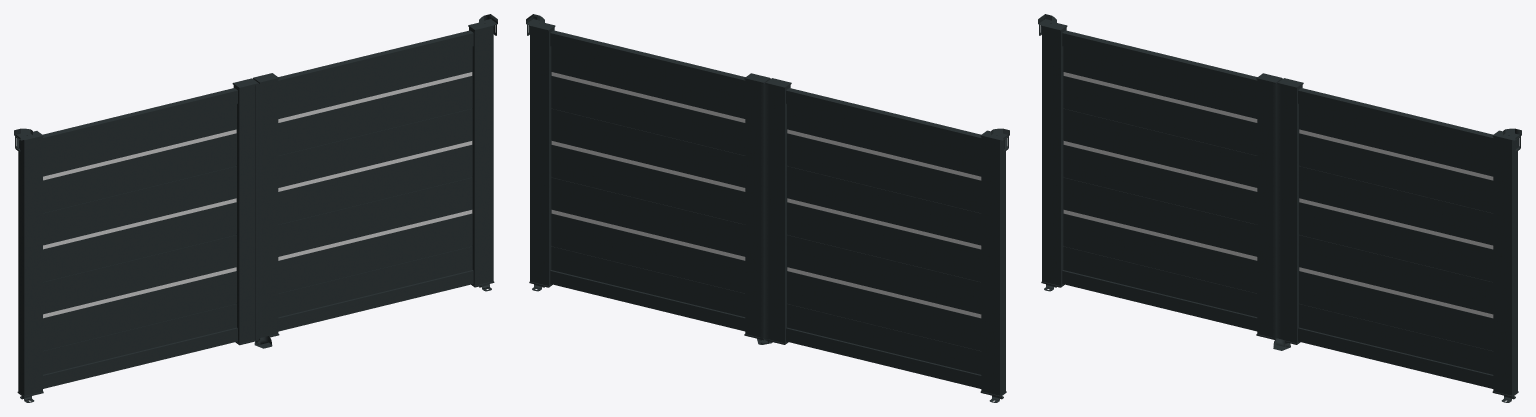
3 views of the same model, side by side, from view 1: azimuth 30°, elevation 25°; view 2: azimuth 150°, elevation 25°; view 3: azimuth 330°, elevation 25° (orthographic).
Visible parts, largest first — view 1: folha2, folha1, priximbattable_net_portail_aluminium_battant_sur_mesure_5601; view 2: folha1, folha2, priximbattable_net_portail_aluminium_battant_sur_mesure_5601; view 3: folha2, folha1, priximbattable_net_portail_aluminium_battant_sur_mesure_5601.
Boxes of the visible parts, x1=… form: folha2: x1=253, y1=22, x2=494, y2=339; folha1: x1=17, y1=78, x2=258, y2=397; priximbattable_net_portail_aluminium_battant_sur_mesure_5601: x1=14, y1=14, x2=497, y2=402; folha1: x1=760, y1=78, x2=1006, y2=397; folha2: x1=529, y1=23, x2=770, y2=340; priximbattable_net_portail_aluminium_battant_sur_mesure_5601: x1=526, y1=14, x2=1009, y2=402; folha2: x1=1272, y1=78, x2=1518, y2=397; folha1: x1=1041, y1=23, x2=1282, y2=339; priximbattable_net_portail_aluminium_battant_sur_mesure_5601: x1=1038, y1=14, x2=1521, y2=402.
Bounding box in the file's own units: 304 × 164 × 12.81.
1 material, 1 textured.
